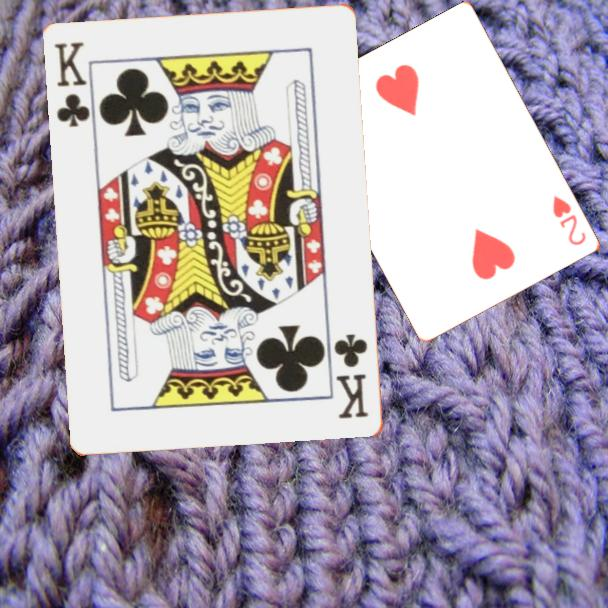c13: (51, 38, 94, 131), (331, 330, 372, 422)
h02: (549, 192, 589, 249)
